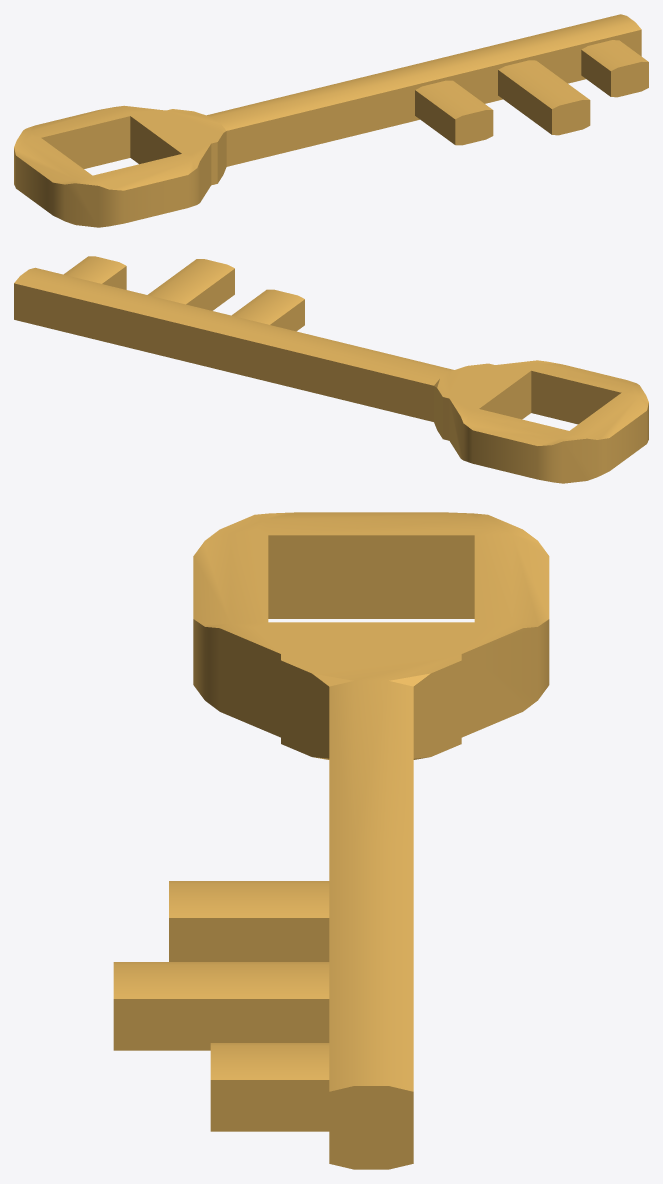
Rendered from lowpoly key.fbx.
The picture shows the model from 3 angles, top to bottom: view 1: azimuth 30°, elevation 25°; view 2: azimuth 150°, elevation 25°; view 3: azimuth 270°, elevation 25°; orthographic projection. The views are drawn at different scales.
Visible parts, largest first — view 1: Cube; view 2: Cube; view 3: Cube.
Part boxes in pixels (x1,y1,x2,y2): Cube: [14, 14, 648, 227]; Cube: [14, 256, 648, 483]; Cube: [113, 512, 549, 1169].
Size of the model in its own units: 129 by 8.65 by 40.89.
